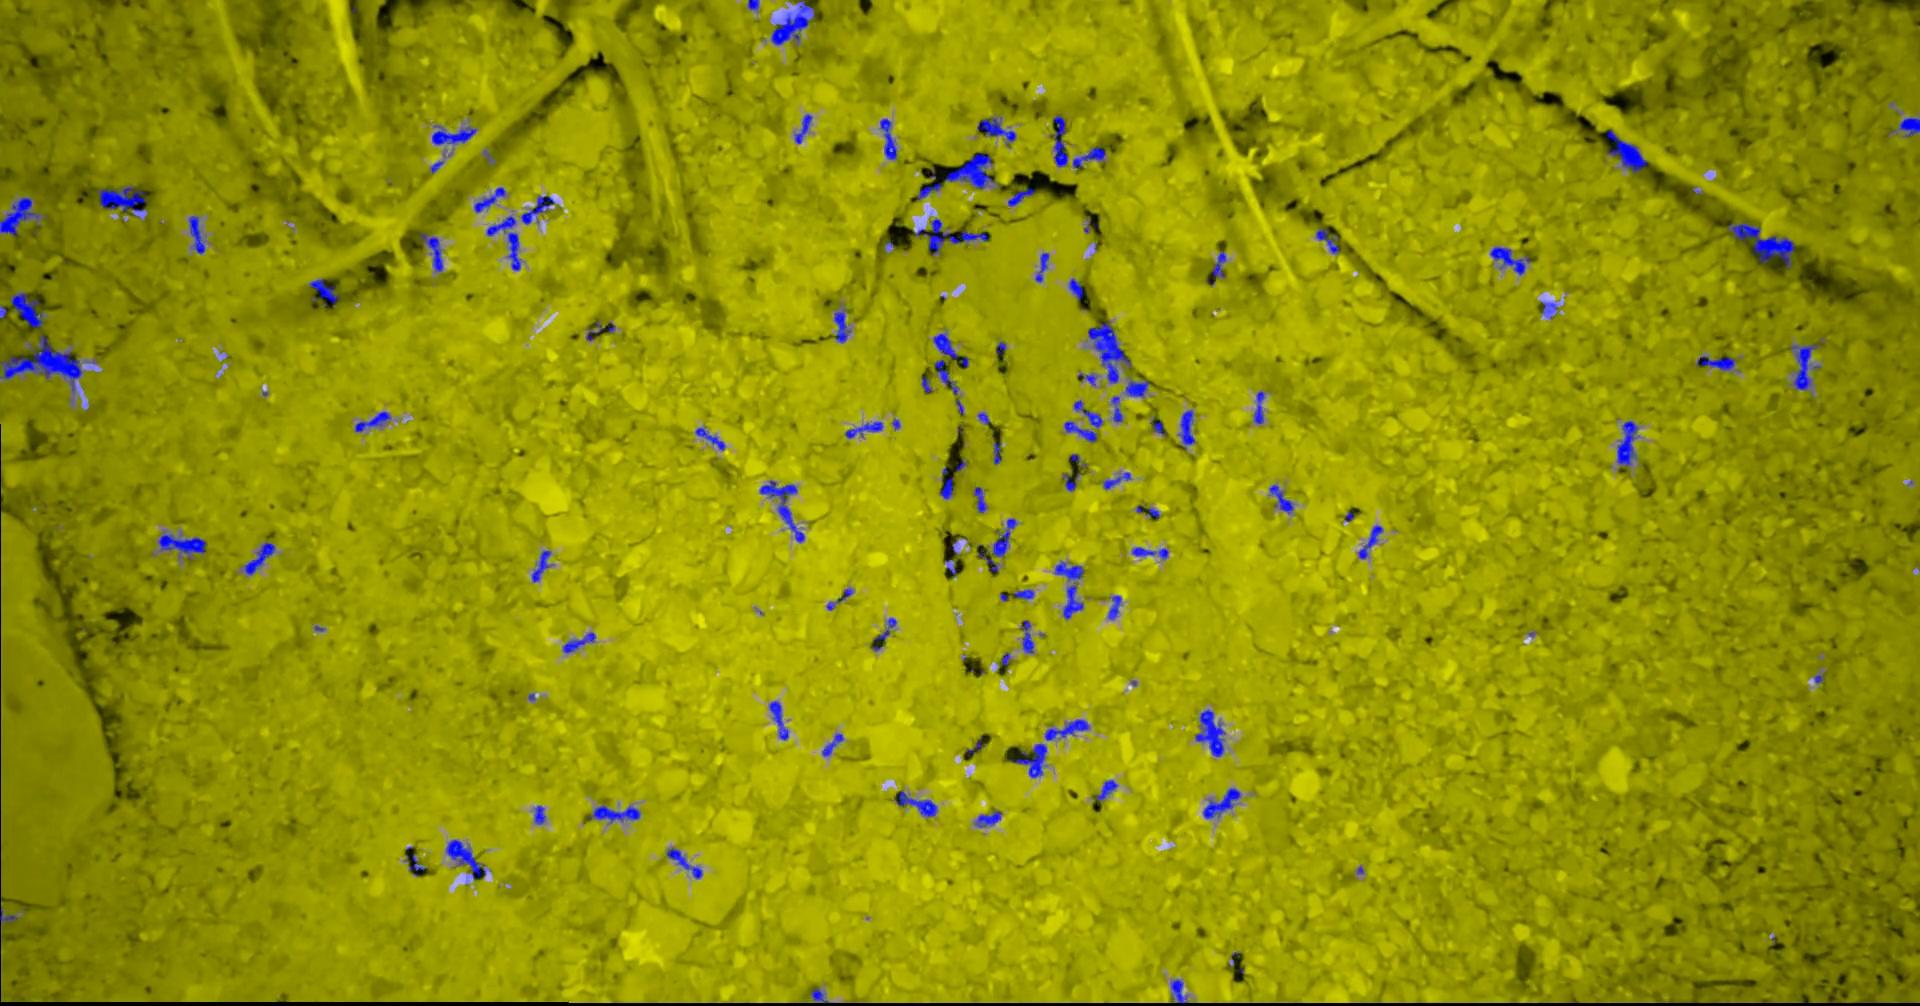ant: (913, 217, 988, 255), (759, 480, 804, 542), (1087, 323, 1130, 384), (770, 0, 814, 44), (486, 216, 521, 271), (0, 196, 47, 235), (943, 152, 993, 189), (1606, 130, 1647, 171), (444, 840, 485, 879), (97, 185, 146, 216), (1194, 709, 1225, 756), (1790, 343, 1818, 390), (1010, 743, 1046, 777), (157, 533, 206, 559), (1490, 246, 1530, 274), (10, 292, 43, 326), (933, 333, 968, 366), (1203, 788, 1239, 818), (665, 847, 701, 878), (977, 117, 1015, 145), (895, 790, 936, 815), (243, 542, 274, 574), (1044, 719, 1088, 741), (1617, 420, 1637, 466), (521, 196, 554, 224), (992, 518, 1016, 556), (472, 185, 505, 212), (587, 805, 640, 822), (430, 124, 476, 144), (419, 232, 442, 271), (1050, 116, 1067, 166), (871, 617, 897, 650), (309, 278, 338, 306), (1073, 399, 1102, 427), (768, 701, 789, 741), (1357, 525, 1382, 558), (935, 359, 957, 394), (1062, 584, 1083, 619), (879, 118, 897, 159), (1072, 146, 1105, 168), (354, 412, 391, 431), (844, 420, 883, 438), (1269, 484, 1293, 512), (1063, 420, 1096, 441), (695, 427, 724, 450), (188, 215, 204, 253), (563, 633, 596, 652), (1208, 250, 1225, 285), (1695, 354, 1735, 370), (585, 320, 615, 340), (1316, 227, 1338, 253), (1178, 410, 1194, 448), (531, 550, 550, 580), (825, 588, 852, 610), (977, 544, 997, 572), (1054, 561, 1083, 580), (833, 309, 850, 342), (794, 114, 811, 144), (1007, 185, 1034, 205), (822, 733, 843, 756), (1095, 779, 1117, 800), (1131, 546, 1168, 559), (1102, 473, 1130, 489), (0, 895, 17, 923), (916, 182, 941, 199), (1170, 979, 1187, 1005), (974, 810, 1001, 827), (1125, 380, 1149, 398), (1034, 251, 1048, 282), (938, 467, 952, 498), (1897, 117, 1919, 136), (405, 854, 424, 875), (1062, 469, 1079, 492), (1021, 620, 1032, 653), (1107, 594, 1121, 619), (1068, 278, 1083, 300), (1253, 391, 1263, 423), (973, 486, 985, 512), (810, 987, 828, 1005), (1111, 396, 1123, 422), (1150, 417, 1166, 434), (1540, 301, 1556, 318), (1077, 372, 1096, 385), (1069, 453, 1086, 467), (533, 805, 545, 824), (1013, 589, 1032, 600), (921, 375, 931, 392), (993, 441, 1001, 464), (747, 0, 758, 10)
